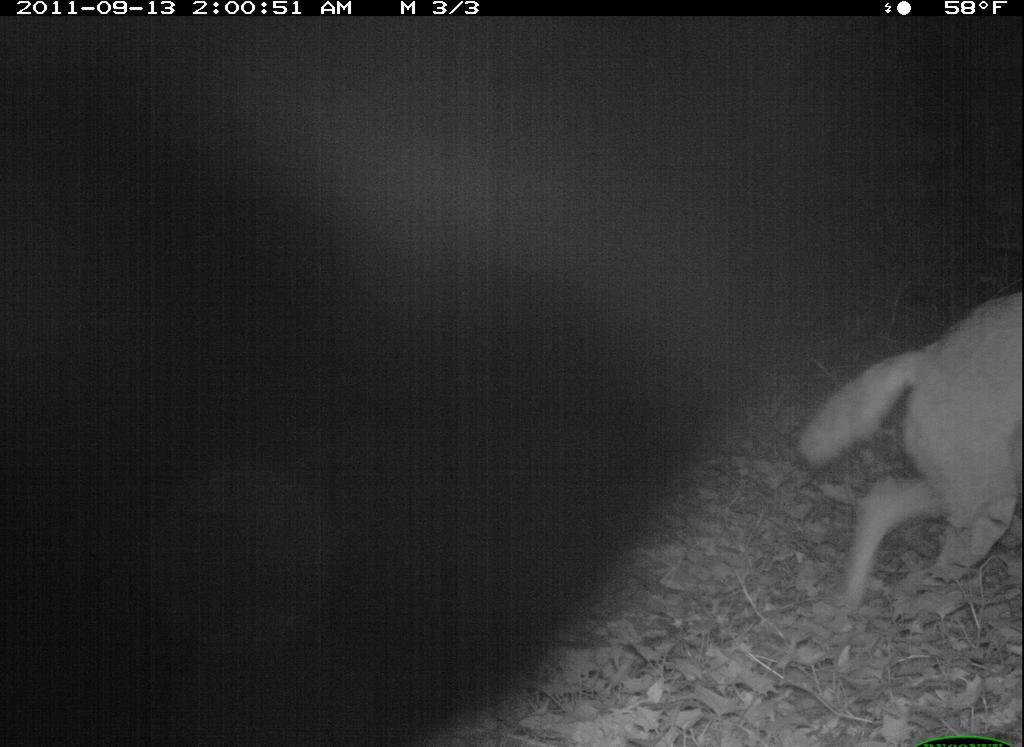coyote: (774, 280, 1021, 639)
